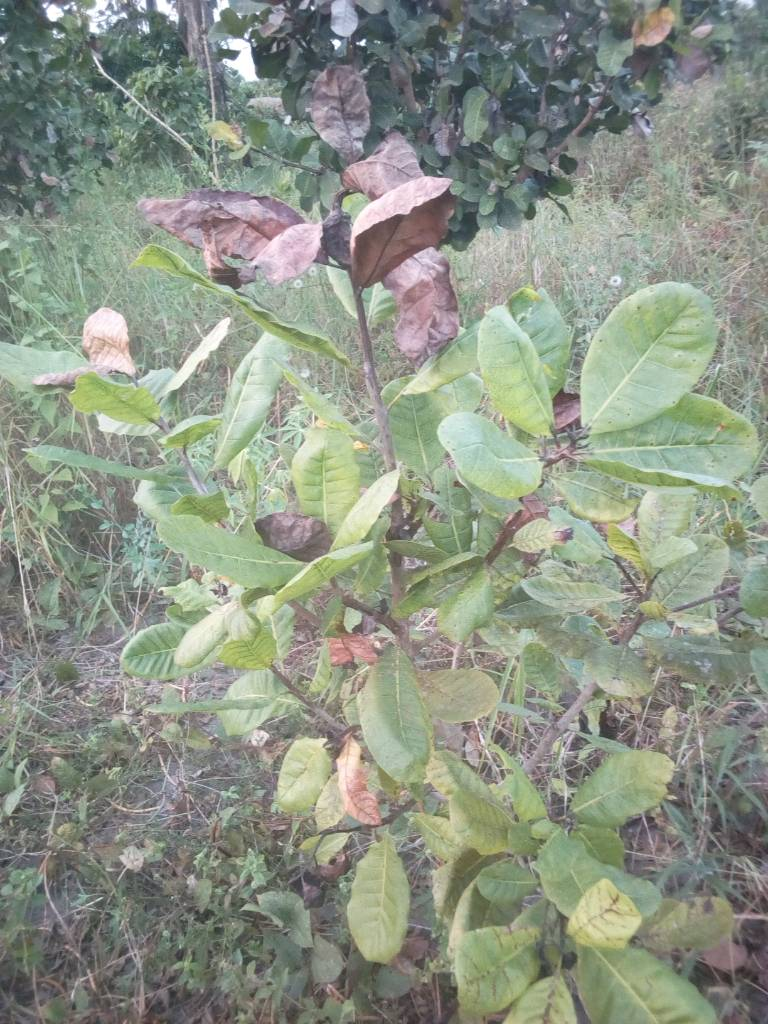Die-black: (137, 167, 307, 280), (299, 61, 383, 166), (246, 507, 341, 555), (315, 196, 366, 283), (542, 377, 589, 458)
